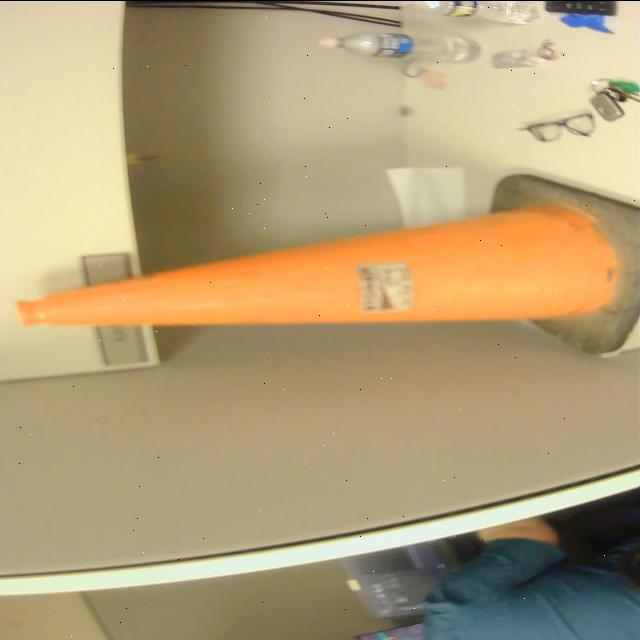traffic cone: (9, 166, 640, 360)
